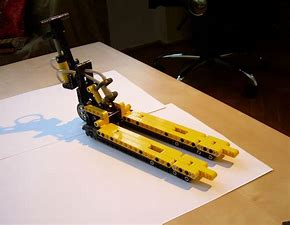Pallet Jack: (37, 9, 242, 185)
